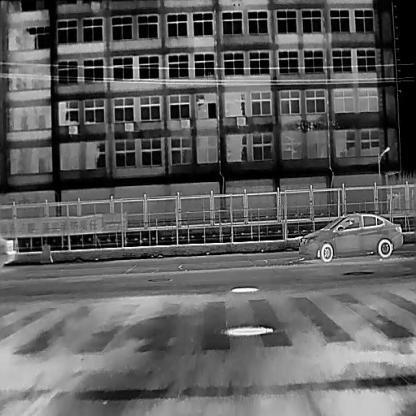car: (298, 211, 403, 263), (0, 227, 17, 271)
